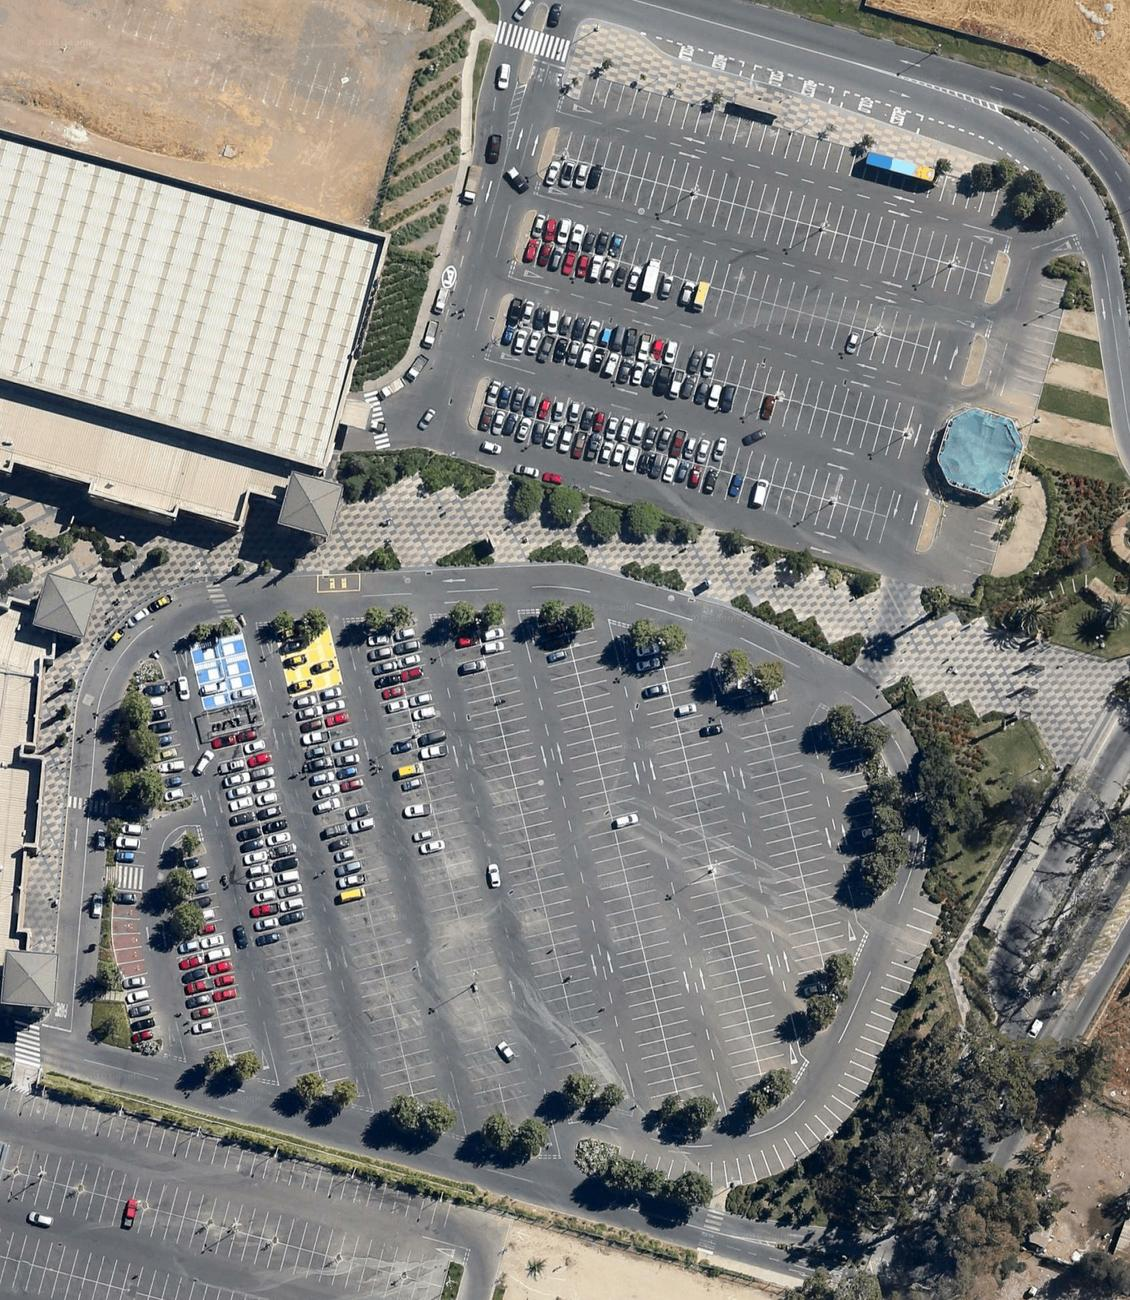parkingspot: (617, 891, 946, 1191), (360, 631, 508, 1123), (389, 623, 533, 1105), (542, 153, 994, 305), (271, 626, 415, 1105), (551, 125, 1002, 277), (576, 71, 1015, 227), (1, 1142, 452, 1289), (565, 627, 707, 1094), (2, 1086, 452, 1233), (477, 622, 616, 1089), (538, 633, 678, 1100), (306, 627, 441, 1105), (449, 631, 587, 1083), (629, 643, 763, 1095), (481, 376, 898, 518), (496, 319, 907, 463), (473, 403, 889, 545), (527, 207, 938, 349), (0, 1168, 444, 1300), (519, 235, 931, 377), (505, 294, 915, 436), (659, 647, 789, 1077), (237, 721, 352, 1086), (207, 728, 321, 1080), (726, 691, 831, 1003), (757, 684, 850, 971), (105, 0, 366, 101), (0, 1228, 272, 1300), (165, 46, 357, 132), (181, 853, 257, 1059), (1004, 273, 1069, 423), (111, 889, 165, 1047), (0, 1256, 168, 1300), (142, 678, 195, 804), (172, 937, 226, 1053), (828, 745, 879, 861), (290, 0, 435, 34), (961, 503, 1006, 579), (187, 640, 233, 713), (215, 632, 260, 706), (115, 822, 150, 868)
